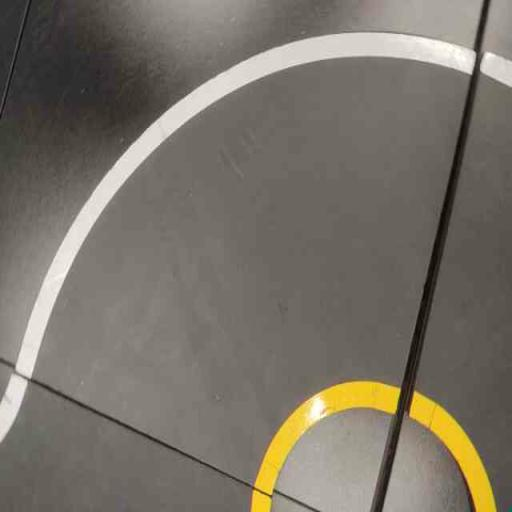left: (12, 9, 479, 495)
